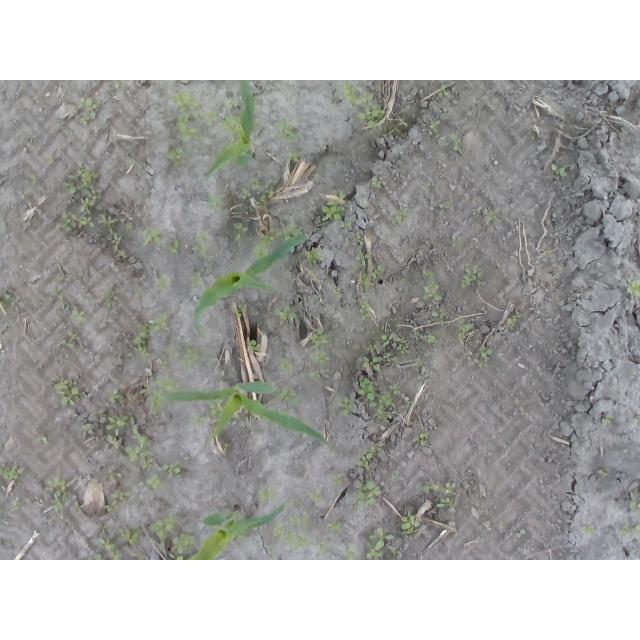Maize: (160, 381, 337, 452), (193, 235, 310, 342), (185, 501, 291, 560), (205, 80, 257, 180)
Weeds: (64, 166, 101, 215), (174, 92, 204, 141), (353, 251, 384, 290), (51, 374, 88, 406), (273, 524, 311, 553), (358, 91, 386, 129), (148, 512, 176, 550), (47, 476, 69, 522), (252, 227, 281, 260), (366, 528, 395, 560), (353, 480, 382, 510), (369, 392, 396, 424), (99, 521, 120, 560), (57, 212, 95, 232), (128, 411, 149, 445), (133, 322, 152, 359), (125, 445, 153, 470), (337, 80, 362, 108), (170, 532, 195, 560), (276, 117, 302, 143), (356, 444, 381, 471), (79, 98, 102, 127), (464, 347, 493, 370), (103, 412, 129, 437), (108, 227, 128, 259), (180, 347, 203, 372), (273, 305, 297, 327), (358, 378, 379, 403), (400, 510, 420, 536), (461, 266, 483, 289), (322, 199, 345, 221), (220, 115, 242, 138), (119, 523, 142, 545), (273, 387, 299, 405), (155, 373, 179, 392), (56, 330, 80, 349), (422, 481, 454, 495), (102, 283, 117, 311), (457, 318, 473, 344), (142, 228, 162, 248), (52, 258, 68, 283), (308, 328, 329, 347), (391, 206, 412, 225), (1, 464, 24, 481), (278, 224, 300, 241), (305, 247, 324, 266), (166, 146, 183, 167), (163, 459, 182, 477), (423, 282, 442, 300), (150, 388, 164, 412), (1, 293, 16, 315), (149, 314, 169, 330), (338, 396, 354, 416), (209, 397, 223, 419), (107, 388, 125, 405), (232, 222, 249, 240), (363, 356, 382, 372), (52, 288, 67, 308), (147, 474, 164, 491), (97, 214, 119, 227), (360, 299, 373, 321), (109, 489, 131, 502), (257, 487, 276, 502), (313, 350, 332, 365), (207, 195, 222, 214), (625, 277, 640, 296), (71, 307, 87, 324), (507, 314, 524, 330), (317, 540, 332, 558), (397, 337, 412, 355), (203, 109, 218, 127), (341, 546, 360, 560), (436, 498, 456, 511), (450, 132, 463, 152), (156, 276, 171, 293), (280, 358, 295, 375), (265, 179, 279, 197), (290, 514, 309, 527), (628, 491, 640, 511), (189, 271, 203, 288), (621, 524, 640, 536), (310, 490, 327, 503), (108, 467, 121, 484), (431, 311, 445, 326), (166, 240, 180, 255), (413, 433, 429, 446), (106, 434, 119, 450), (484, 208, 501, 220), (552, 164, 569, 176), (189, 414, 207, 425), (81, 423, 94, 438), (328, 520, 344, 532), (309, 370, 328, 379), (196, 229, 209, 242), (438, 204, 451, 217), (267, 546, 279, 560), (383, 332, 394, 347), (235, 304, 248, 316), (239, 188, 251, 201), (255, 195, 269, 206), (165, 348, 180, 358), (332, 284, 342, 299), (430, 120, 440, 135), (248, 340, 260, 352), (438, 84, 450, 96), (141, 382, 152, 395), (333, 473, 344, 486), (286, 151, 299, 162), (387, 545, 401, 555), (383, 353, 397, 363), (104, 501, 118, 511), (389, 384, 400, 396), (341, 220, 353, 231), (227, 96, 238, 108), (194, 245, 207, 255), (371, 176, 381, 188), (31, 175, 43, 185), (75, 502, 84, 515), (602, 416, 615, 425), (422, 270, 435, 279), (311, 293, 322, 303), (250, 177, 261, 187), (516, 529, 528, 538), (424, 335, 436, 344), (450, 235, 462, 244), (89, 553, 104, 560), (584, 524, 594, 534), (157, 360, 168, 369), (133, 286, 142, 297), (367, 344, 378, 353), (37, 436, 49, 444), (130, 552, 146, 558), (475, 80, 486, 88), (11, 501, 19, 512), (357, 234, 364, 246), (597, 467, 611, 473), (125, 222, 135, 230), (405, 399, 416, 406), (114, 80, 122, 89), (528, 132, 536, 141), (422, 186, 430, 195), (339, 189, 346, 199), (415, 357, 422, 366), (413, 330, 419, 340), (223, 443, 229, 453), (129, 157, 136, 164), (160, 80, 169, 85), (391, 475, 397, 482), (65, 85, 71, 92), (630, 371, 637, 377), (318, 142, 326, 147), (401, 277, 406, 283)
